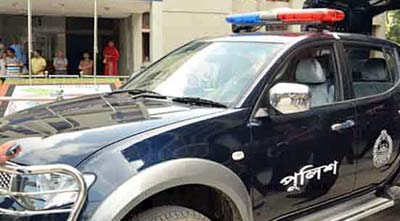policecar: (1, 7, 400, 220)
